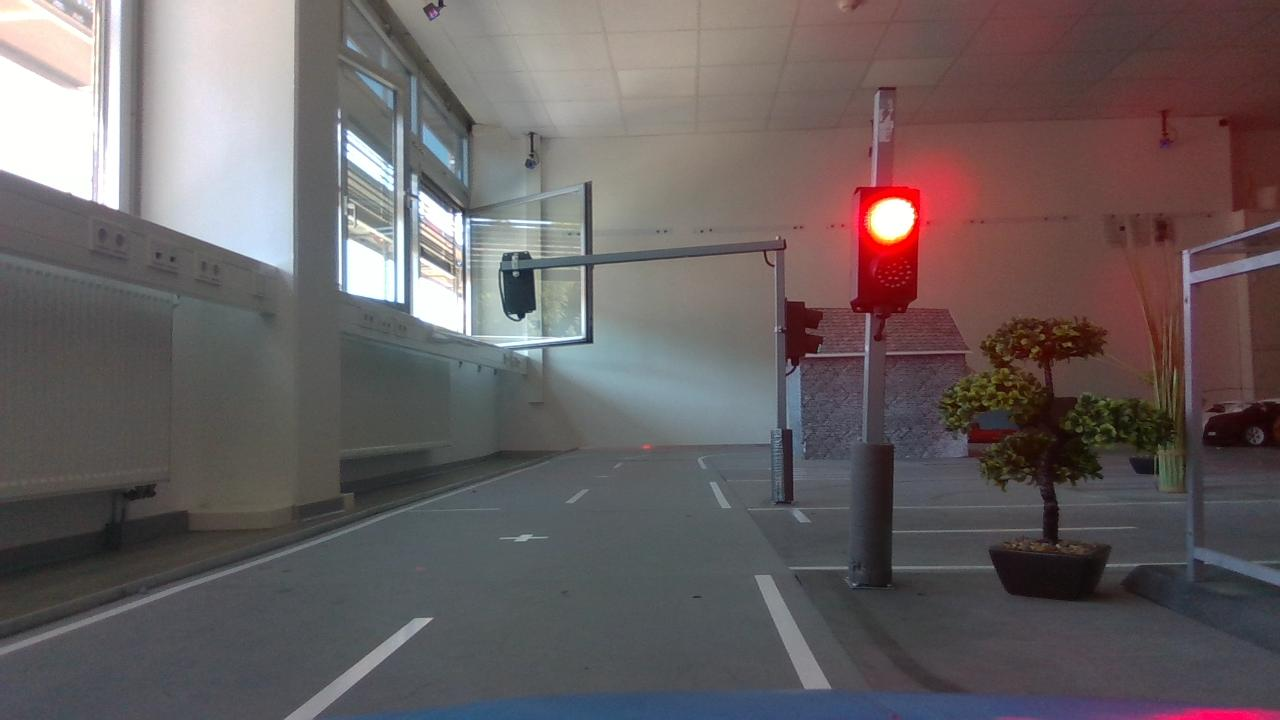traffic_light_red: (844, 178, 937, 330)
